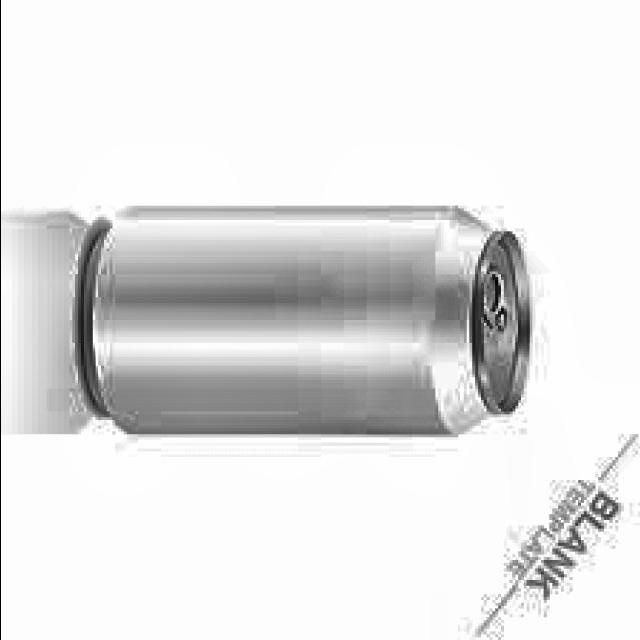litter: (52, 190, 544, 446)
